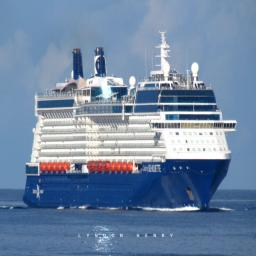cruises: (23, 30, 240, 218)
